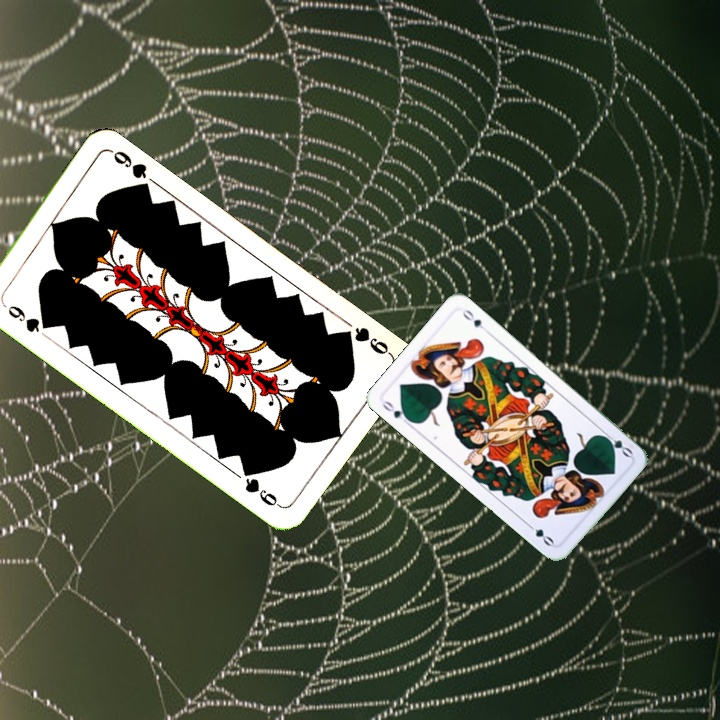G9: (335, 322, 393, 358), (3, 301, 53, 335)
GO: (598, 428, 635, 460), (378, 396, 414, 428)
